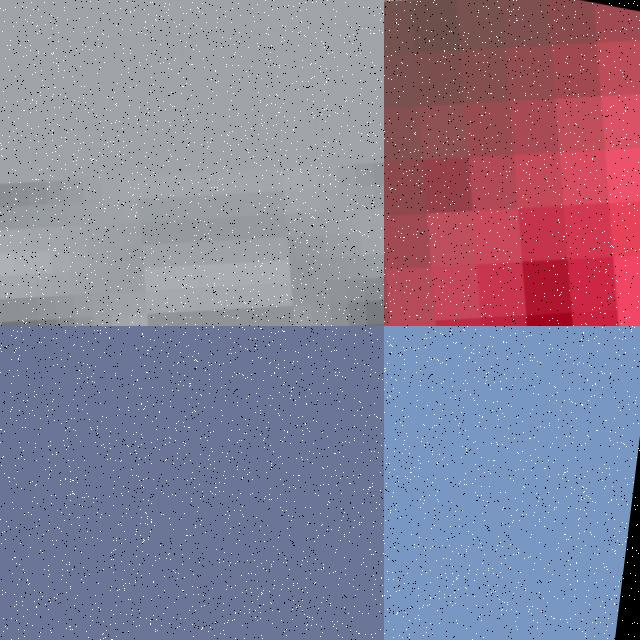drone: (0, 0, 384, 326), (384, 0, 640, 326)
